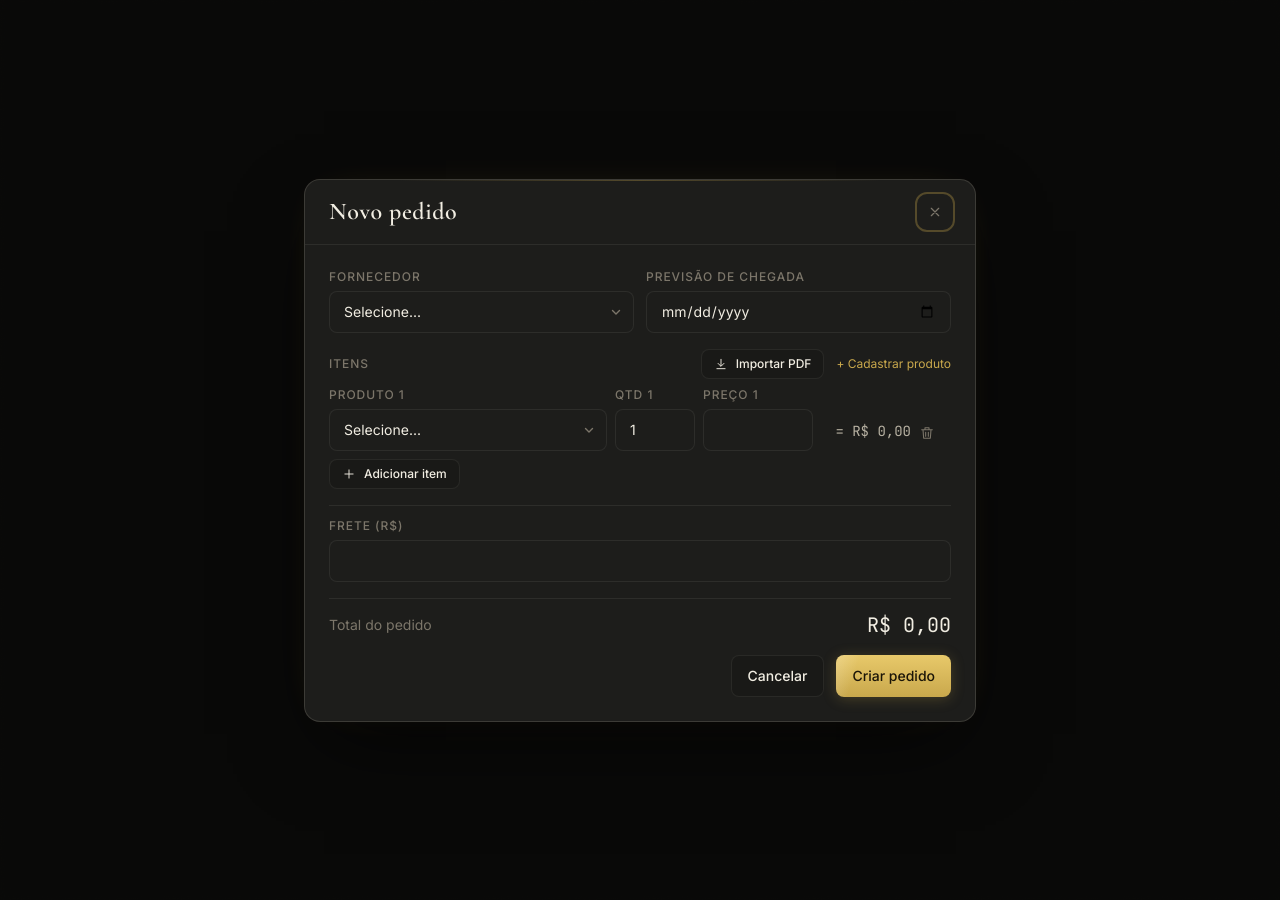
Test: NovoPedidoModal › bloqueia produto repetido em duas linhas
Select "Perfume X" in the dropdown labelled "Produto 1" at (468, 430), box [329, 408, 607, 450]
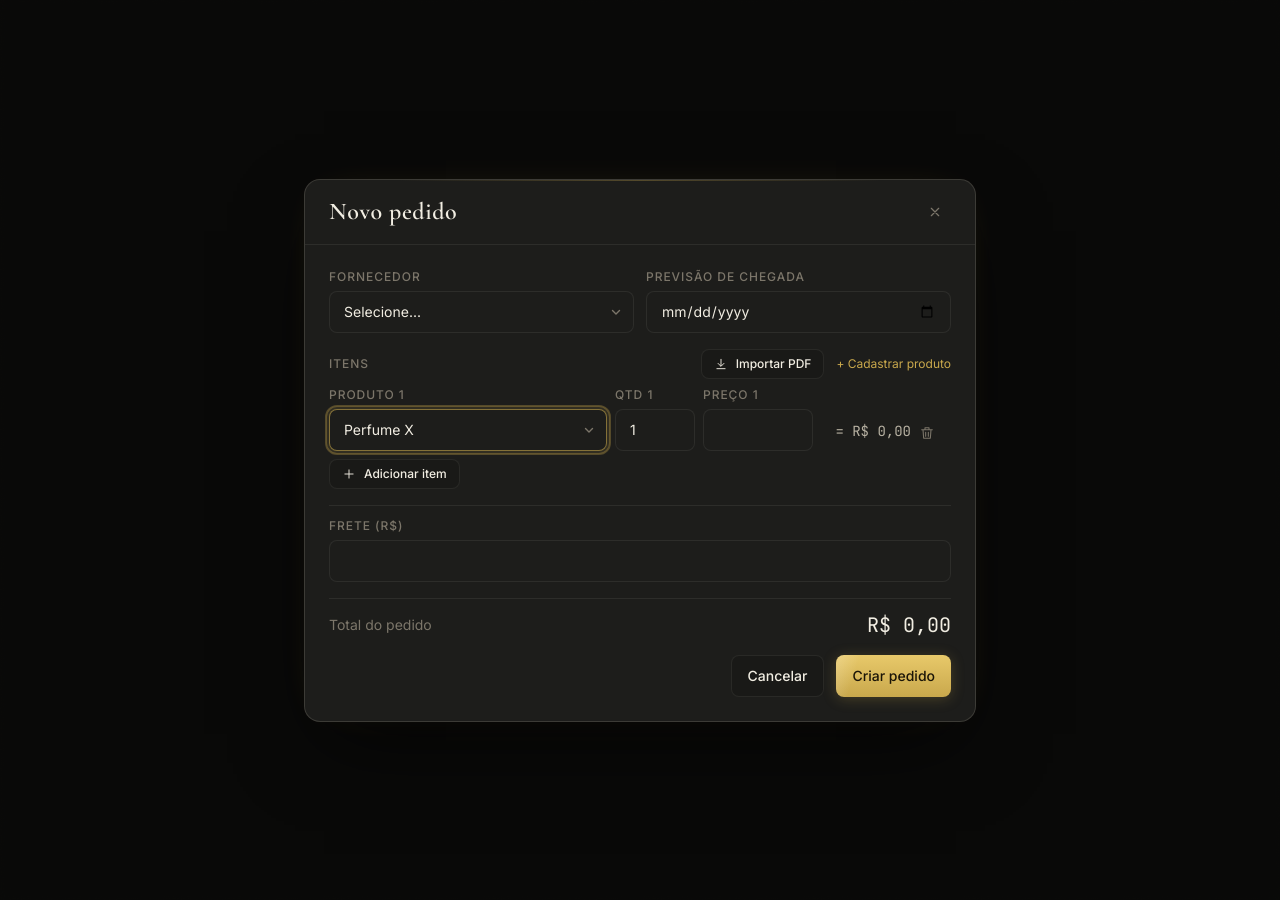
Click the button "Adicionar item" at (394, 474), box [329, 458, 460, 488]
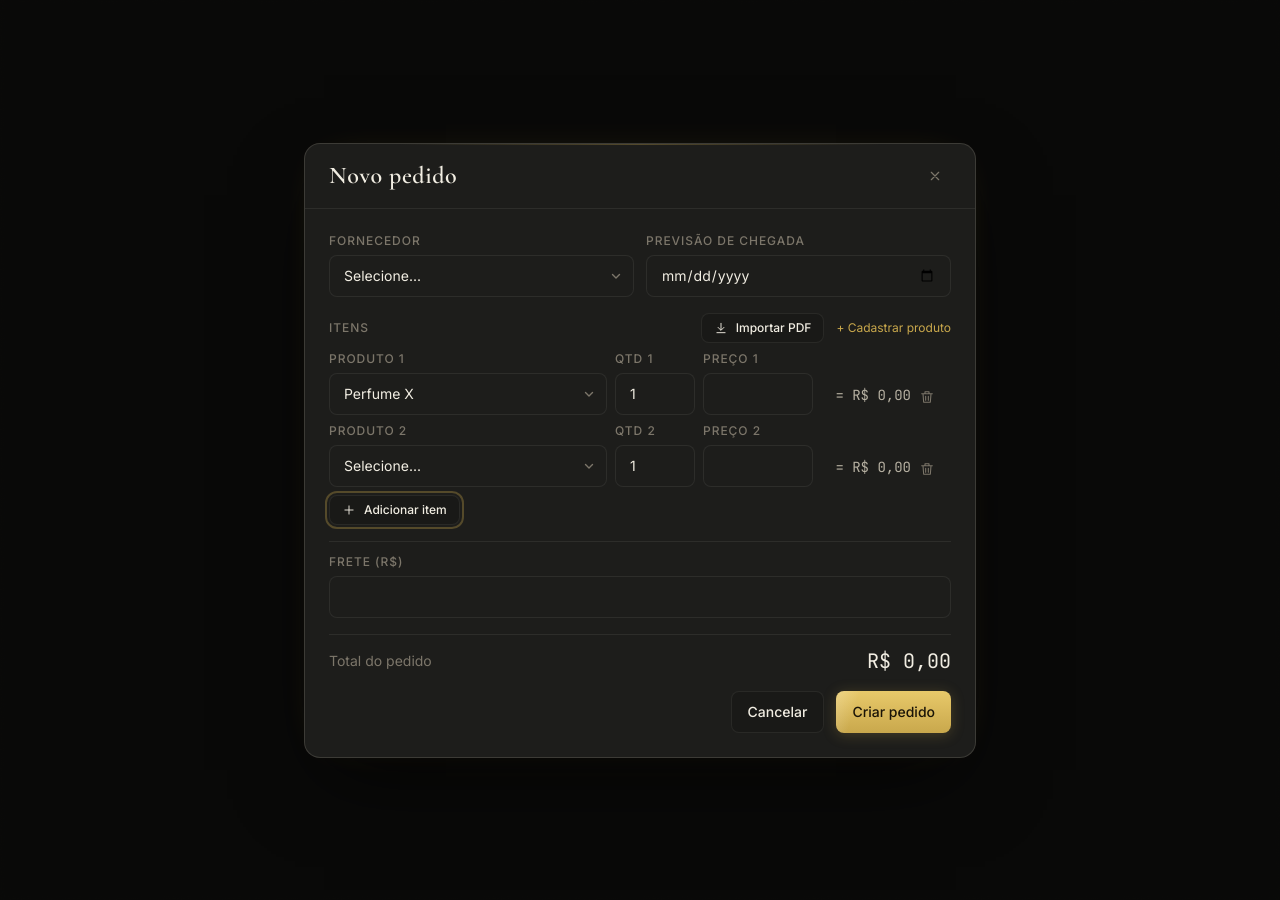
Select "Perfume X" in the dropdown labelled "Produto 2" at (468, 466), box [329, 444, 607, 486]
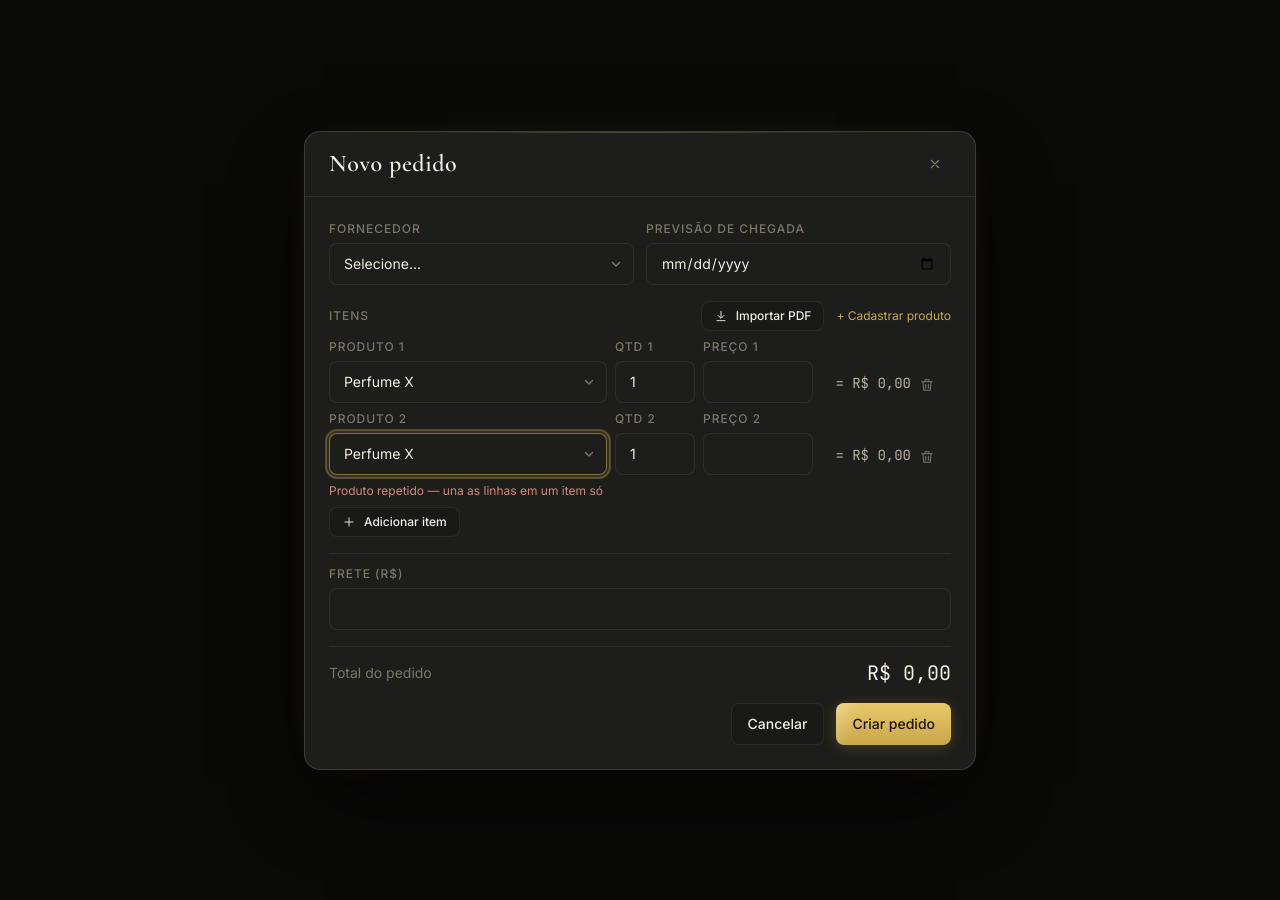
Result: the text "Produto repetido — una as linhas em um item só" is shown at [329, 482, 603, 498]
